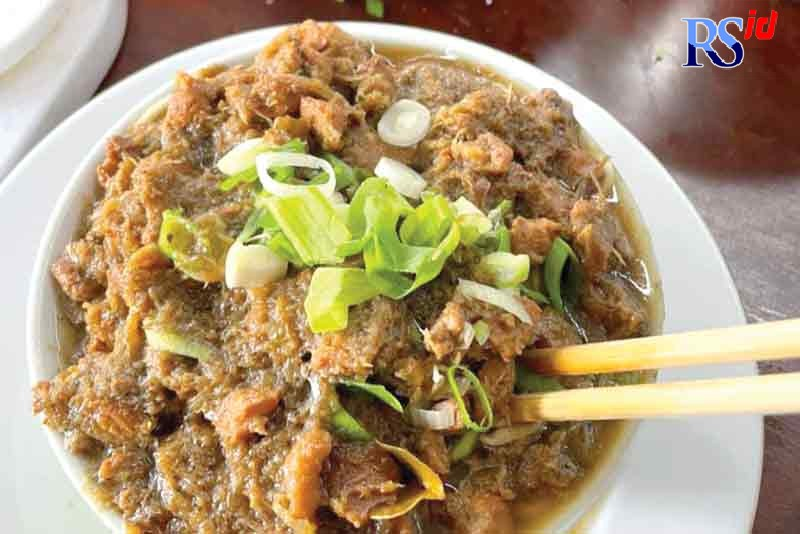Mie: (23, 74, 668, 531)
